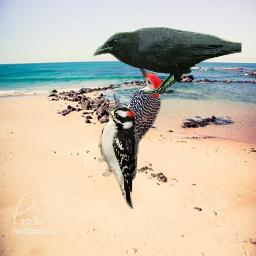Crow: (93, 27, 242, 97)
Woodpecker: (107, 63, 162, 166), (98, 107, 139, 209)
